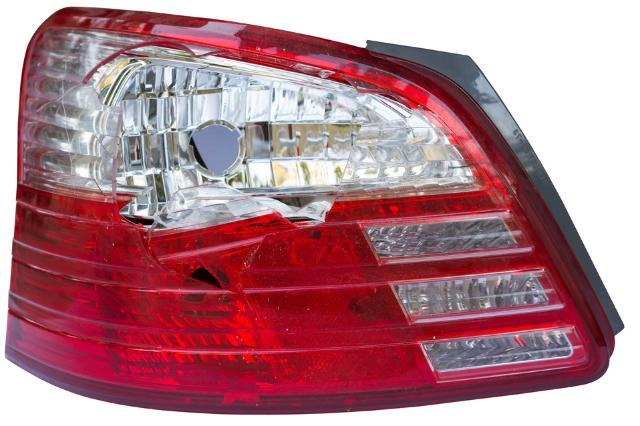Light: (9, 23, 592, 386)
